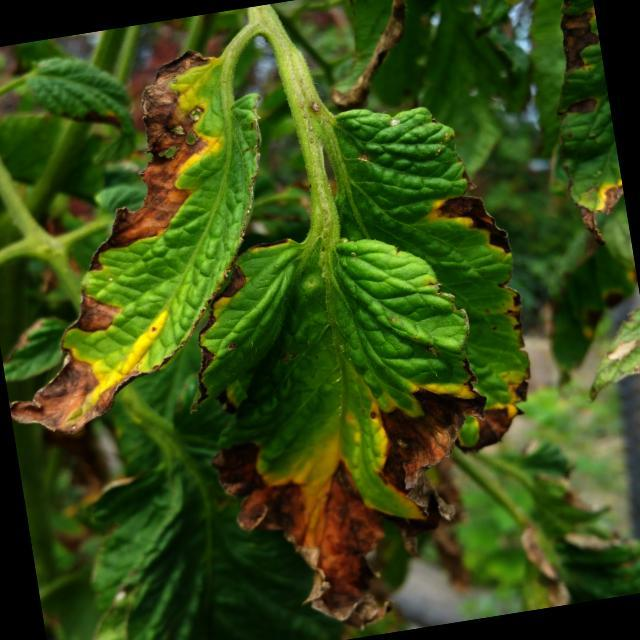Tomato bacterial spot leaf: (181, 195, 516, 629), (0, 27, 306, 448), (318, 77, 564, 474), (515, 0, 630, 247)
